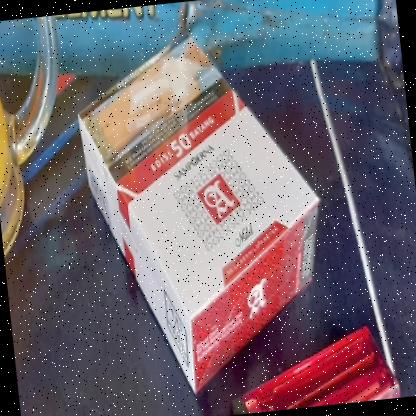bungkus rokok: (61, 19, 342, 412)
